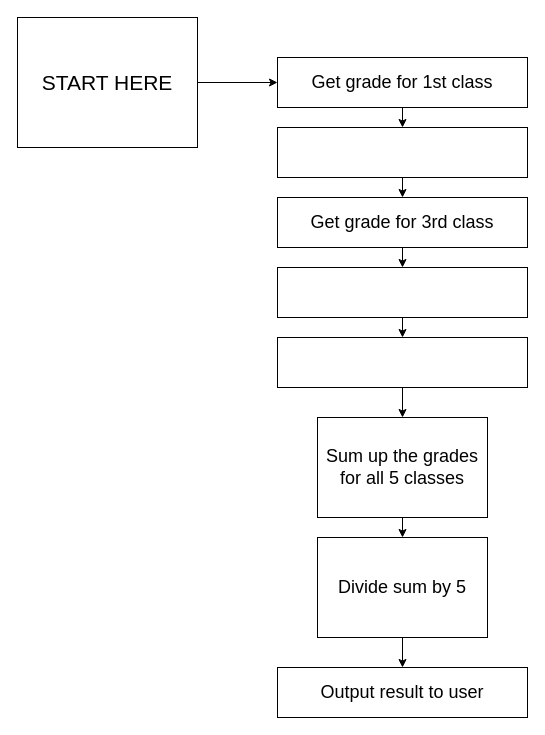
The diagram is 545 pixels wide and 735 high, and some of its shapes have lost their labels. The shapes that lost their labels are listed below. From the top down, each one's box as (x1, y1, x2, y2) in pixels, then its label:
(276, 126, 528, 178): Get grade for 2nd class
(276, 266, 528, 318): Get grade for 4th class
(276, 336, 528, 388): Get grade for 5th class
